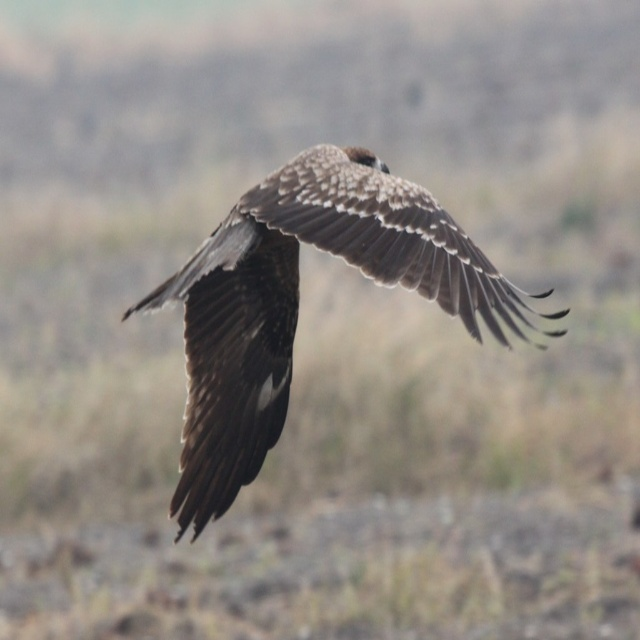Eagle: (122, 145, 572, 545)
